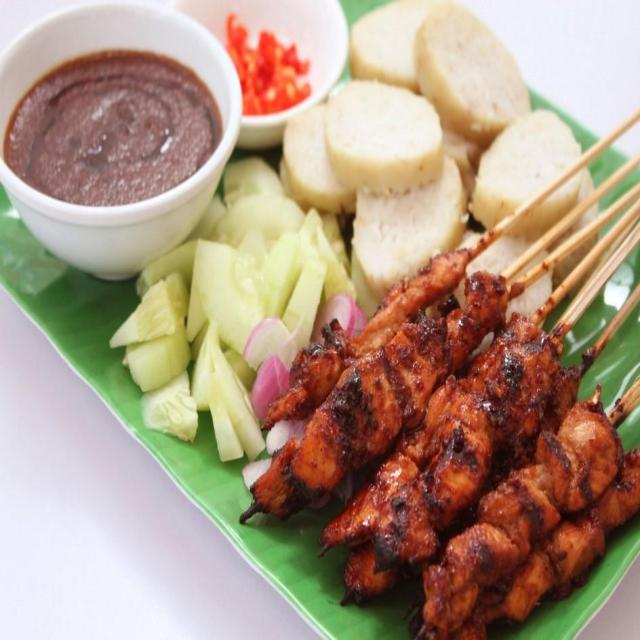Sate: (264, 59, 639, 632)
